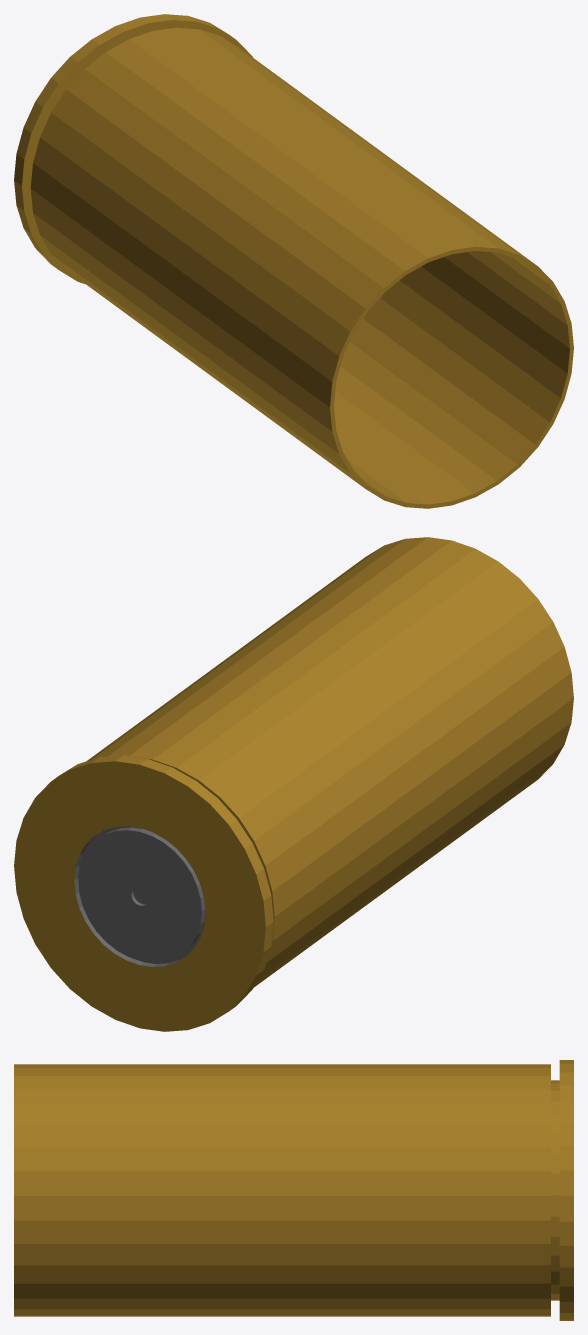
File: PistolShell.fbx
3 renders of one model, top to bottom at view 1: azimuth 30°, elevation 25°; view 2: azimuth 150°, elevation 25°; view 3: azimuth 270°, elevation 25°, orthographic. The views are drawn at different scales.
Parts seen in each view (by area): view 1: Cylinder; view 2: Cylinder; view 3: Cylinder.
Boxes of the visible parts, x1=… form: Cylinder: x1=14, y1=14, x2=573, y2=508; Cylinder: x1=14, y1=537, x2=573, y2=1031; Cylinder: x1=14, y1=1060, x2=573, y2=1320.
Bounding box in the file's own units: 0.8226 × 0.8226 × 1.76.
